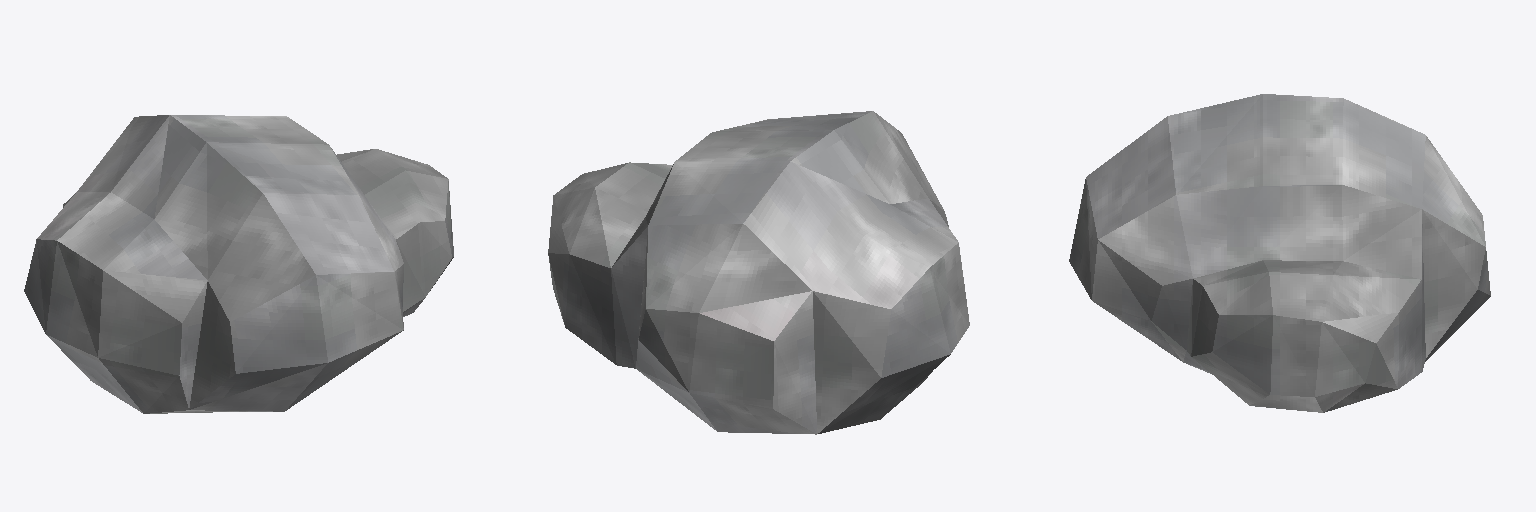
3 views of the same model, side by side, from view 1: azimuth 30°, elevation 25°; view 2: azimuth 150°, elevation 25°; view 3: azimuth 270°, elevation 25° (orthographic).
Parts seen in each view (by area): view 1: cloud.001_cloud; view 2: cloud.001_cloud; view 3: cloud.001_cloud.
Part boxes in pixels (bbox=[...]): cloud.001_cloud: bbox=[24, 115, 453, 413]; cloud.001_cloud: bbox=[548, 111, 969, 434]; cloud.001_cloud: bbox=[1069, 94, 1490, 412].
Size of the model in its own units: 158 by 103 by 147.
1 materials, 1 textured.